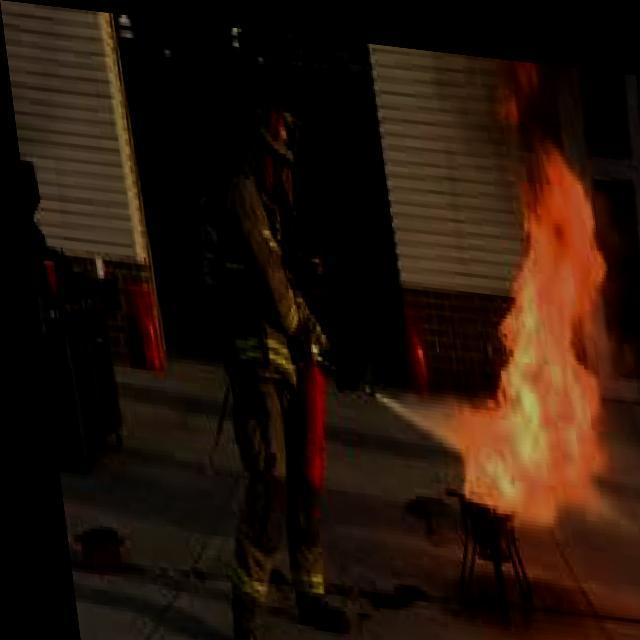Fire: (403, 68, 632, 561)
